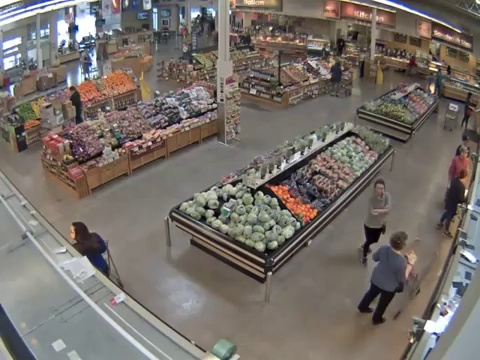face: (374, 184, 384, 195)
